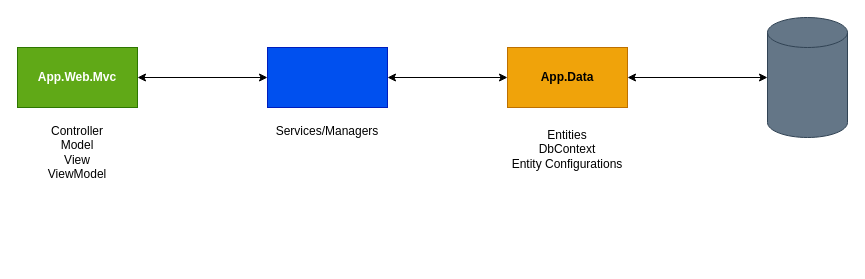
The diagram is 865 pixels wide and 279 high, and some of its shapes have lost their labels. The centre of each missing label's shape, as x and y in pixels:
"App.Business" belongs at (x=327, y=77).
"Database" belongs at (x=807, y=77).
